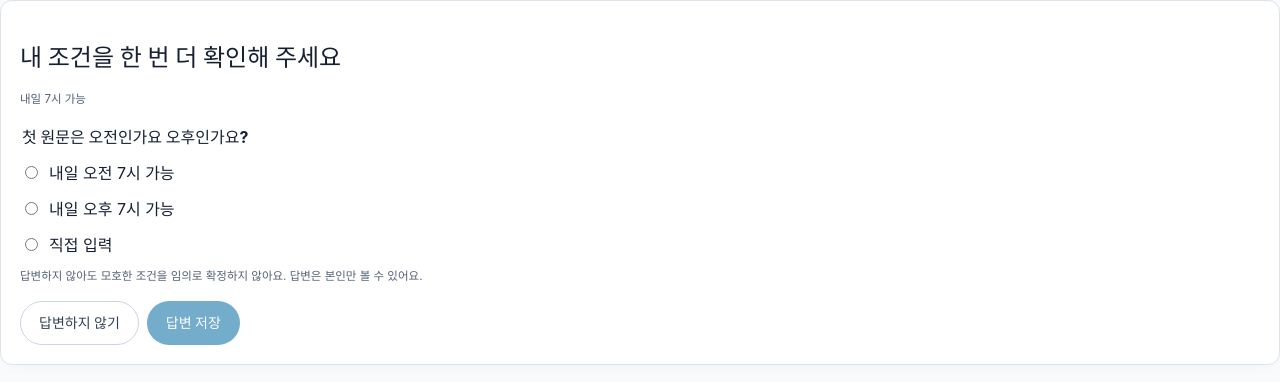
#107 explicit answer intent belongs to its question identity › also requires a fresh choice if a source revision changes while the question ID is reused
The image size is (1280, 382).
Click the radio button labelled "내일 오전 7시 가능".
click(32, 172)  # box [25,166,38,179]
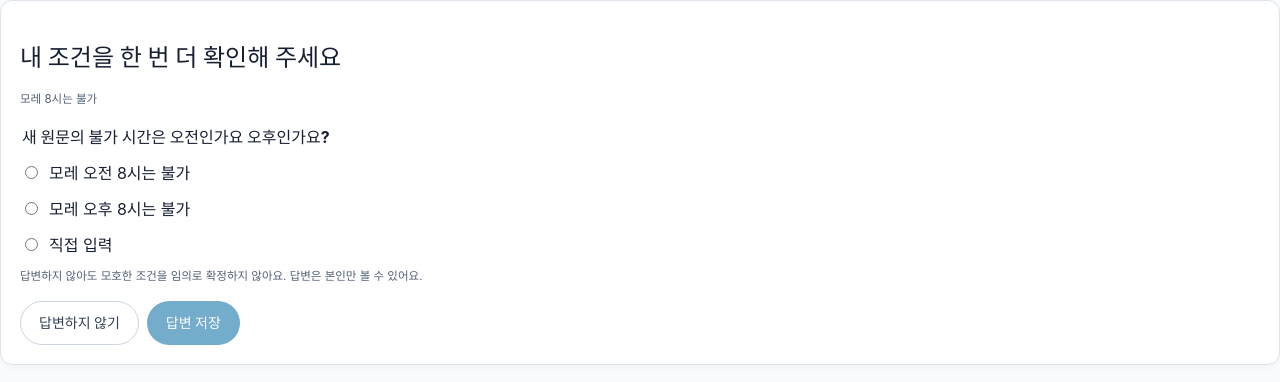
Expected: the button "답변 저장" is disabled, [147,300,240,344]
Now the text "새 원문의 불가 시간은 오전인가요 오후인가요?" is shown, box [20,125,332,149]
